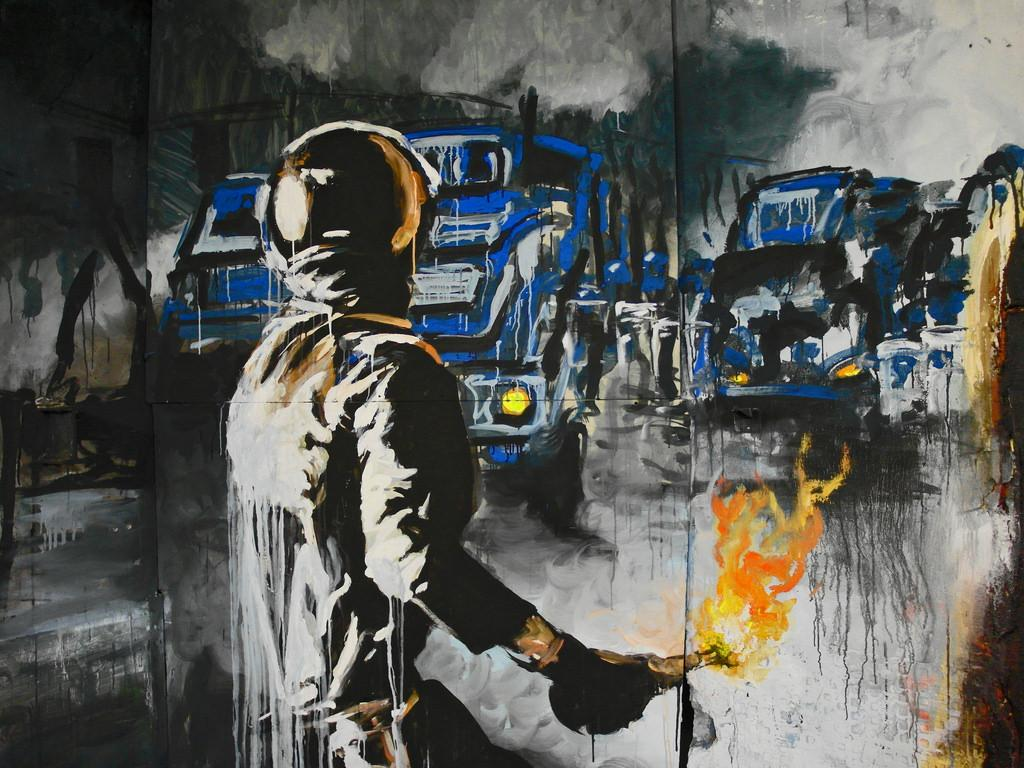fire: (702, 566, 794, 638)
